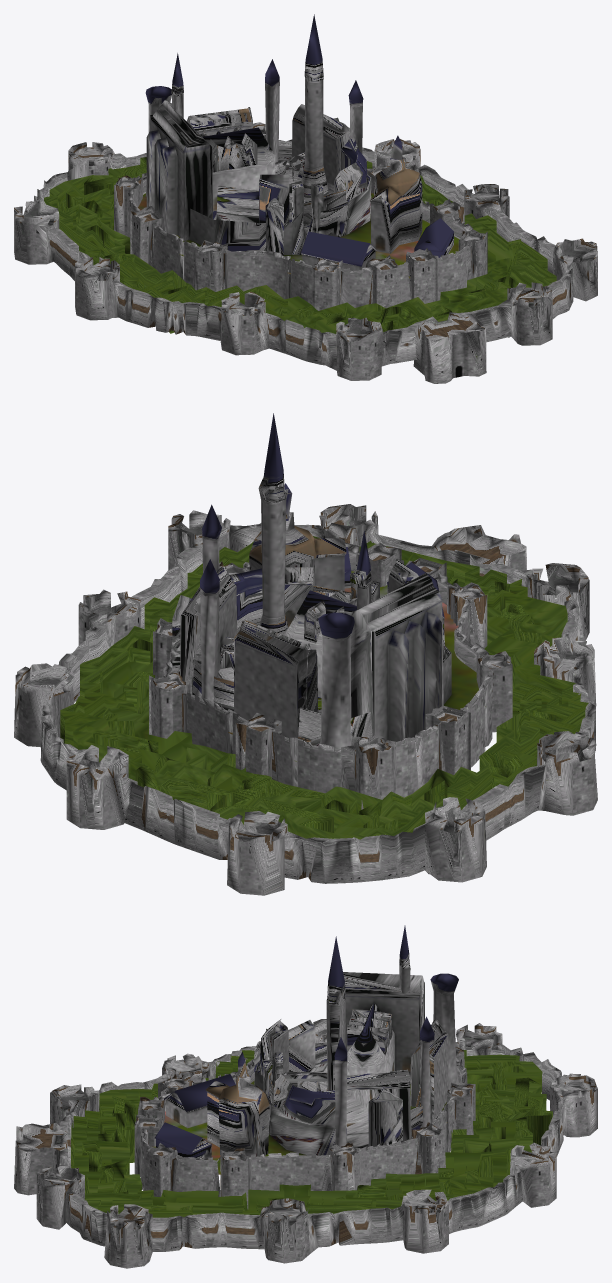
The picture shows the model from 3 angles, top to bottom: view 1: azimuth 30°, elevation 25°; view 2: azimuth 150°, elevation 25°; view 3: azimuth 270°, elevation 25°; orthographic projection. The views are drawn at different scales.
Visible parts, largest first — view 1: landmark; view 2: landmark; view 3: landmark.
Boxes of the visible parts, bbox=[...] form: landmark: bbox=[14, 14, 597, 383]; landmark: bbox=[14, 413, 597, 895]; landmark: bbox=[14, 925, 597, 1268].
Bounding box in the file's own units: 234 × 132 × 280.
4 materials, 4 textured.
